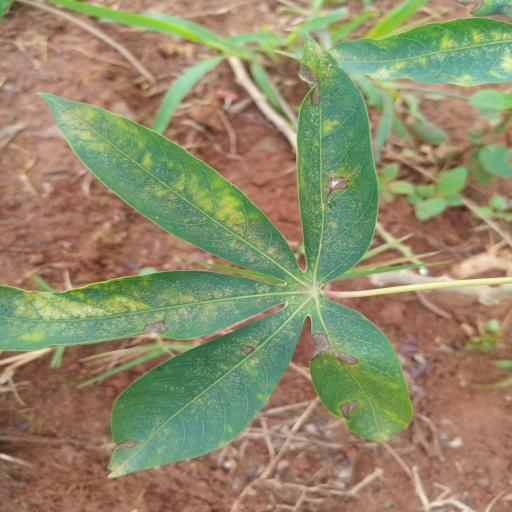Cassava_Mosaic: (5, 52, 421, 484)
